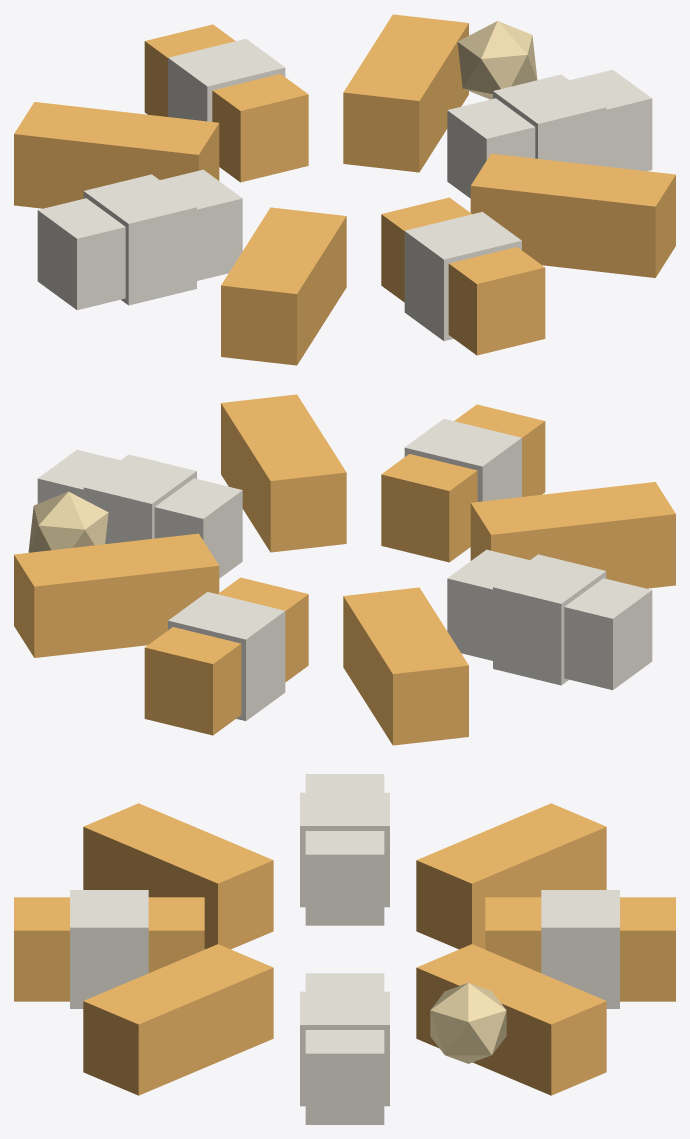
Rendered from life_ring.glb.
3 views of the same model, one above another, from view 1: azimuth 30°, elevation 25°; view 2: azimuth 150°, elevation 25°; view 3: azimuth 270°, elevation 25° (orthographic).
Parts seen in each view (by area): view 1: ring_7, ring_3, ring_5, ring_1.001, ring_4, ring_6, ring_2, ring_0.001, band_4, band_6, band_0.002, band_2 (+1 smaller); view 2: ring_1.001, ring_5, ring_3, ring_7, ring_4, ring_2, ring_6, band_4, ring_0.001, band_2, band_0.002, band_6 (+1 smaller); view 3: ring_7, ring_3, ring_5, ring_1.001, ring_2, ring_6, ring_0.001, ring_4, band_2, band_6, rope, band_0.002 (+1 smaller).
Part boxes in pixels (left/top/right/bottom): ring_7: left=470, top=153, right=675, bottom=277; ring_3: left=14, top=102, right=219, bottom=208; ring_5: left=221, top=207, right=346, bottom=365; ring_1.001: left=343, top=14, right=468, bottom=172; ring_4: left=37, top=169, right=242, bottom=310; ring_6: left=381, top=197, right=545, bottom=355; ring_2: left=144, top=24, right=308, bottom=182; ring_0.001: left=447, top=69, right=652, bottom=198; band_4: left=83, top=174, right=196, bottom=305; band_6: left=404, top=212, right=521, bottom=340; band_0.002: left=493, top=74, right=606, bottom=166; band_2: left=168, top=39, right=285, bottom=121; ring_1.001: left=14, top=533, right=219, bottom=657; ring_5: left=470, top=482, right=675, bottom=588; ring_3: left=343, top=587, right=468, bottom=745; ring_7: left=221, top=394, right=346, bottom=552; ring_4: left=447, top=549, right=652, bottom=690; ring_2: left=144, top=577, right=308, bottom=735; ring_6: left=381, top=404, right=545, bottom=562; band_4: left=493, top=554, right=606, bottom=685; ring_0.001: left=37, top=449, right=242, bottom=578; band_2: left=168, top=592, right=285, bottom=720; band_0.002: left=83, top=454, right=196, bottom=544; band_6: left=404, top=419, right=521, bottom=501; ring_7: left=83, top=944, right=273, bottom=1095; ring_3: left=416, top=803, right=606, bottom=949; ring_5: left=83, top=803, right=273, bottom=949; ring_1.001: left=416, top=944, right=606, bottom=1095; ring_2: left=485, top=897, right=675, bottom=1001; ring_6: left=14, top=897, right=204, bottom=1001; ring_0.001: left=305, top=973, right=384, bottom=1124; ring_4: left=305, top=774, right=384, bottom=925; band_2: left=541, top=890, right=619, bottom=1008; band_6: left=70, top=890, right=148, bottom=1008; rope: left=430, top=982, right=506, bottom=1063; band_0.002: left=300, top=991, right=389, bottom=1106.
Size of the model in its own units: 1.18 by 0.22 by 1.18.
